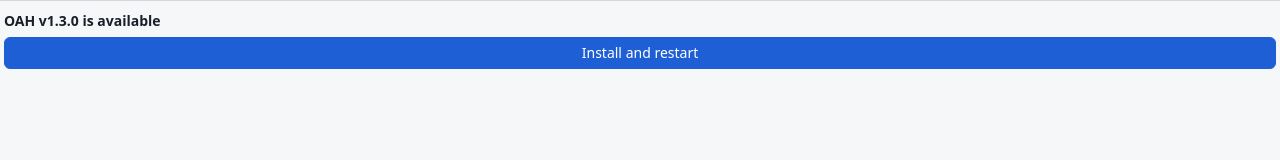
Test: offers an update on startup and waits for the user to install the displayed version
Expected: the text "OAH v1.3.0 is available" is shown, [4,11,161,30]
Click the button "Install and restart": (640,53) [4,37,1276,69]
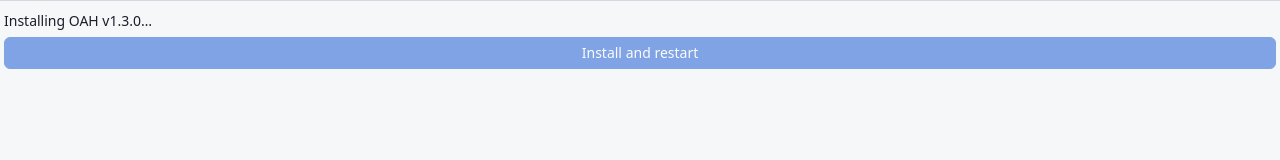
Expected: the button "Install and restart" is disabled, [4,37,1276,69]
